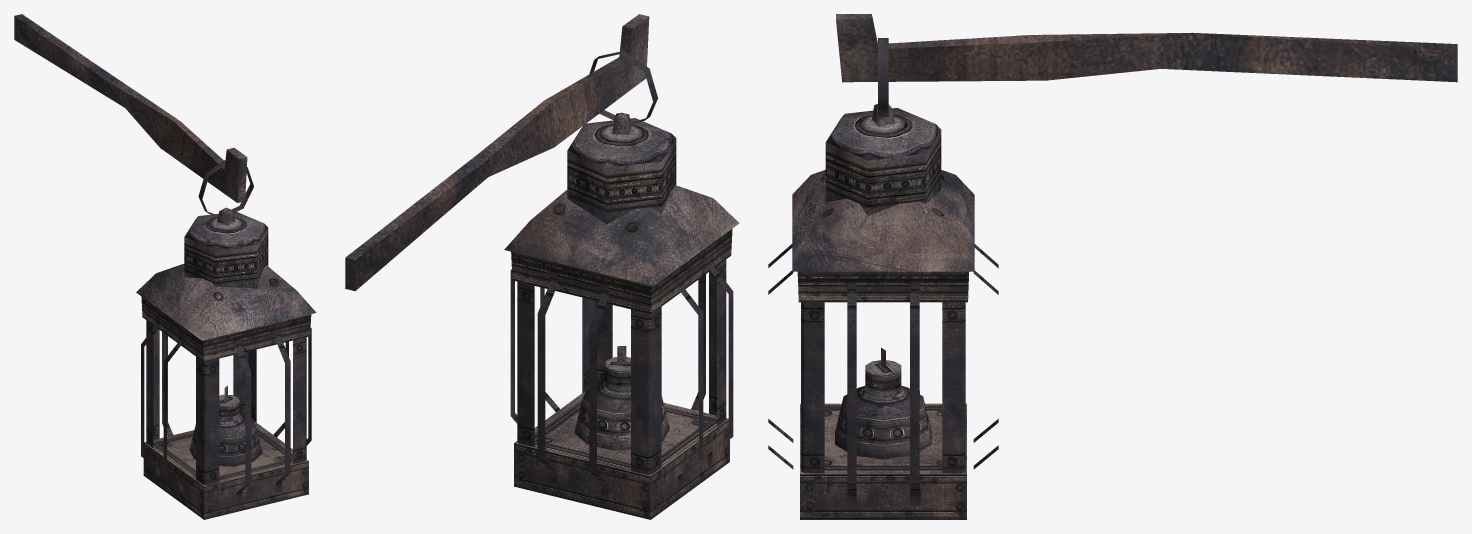
The model's file is Lamp1B_LOD1.fbx.
3 views of the same model, side by side, from view 1: azimuth 30°, elevation 25°; view 2: azimuth 150°, elevation 25°; view 3: azimuth 270°, elevation 25° (orthographic). The views are drawn at different scales.
Parts seen in each view (by area): view 1: polySurface1372; view 2: polySurface1372; view 3: polySurface1372.
Part boxes in pixels (left/top/right/bottom): polySurface1372: left=14, top=14, right=316, bottom=519; polySurface1372: left=345, top=14, right=739, bottom=519; polySurface1372: left=768, top=14, right=1457, bottom=519.
Bounding box in the file's own units: 0.2979 × 0.6708 × 0.8922.
